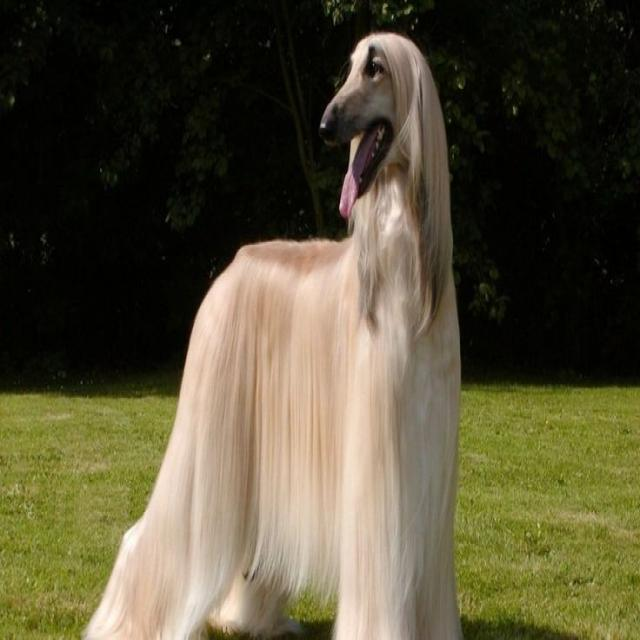dog: (292, 12, 502, 329)
